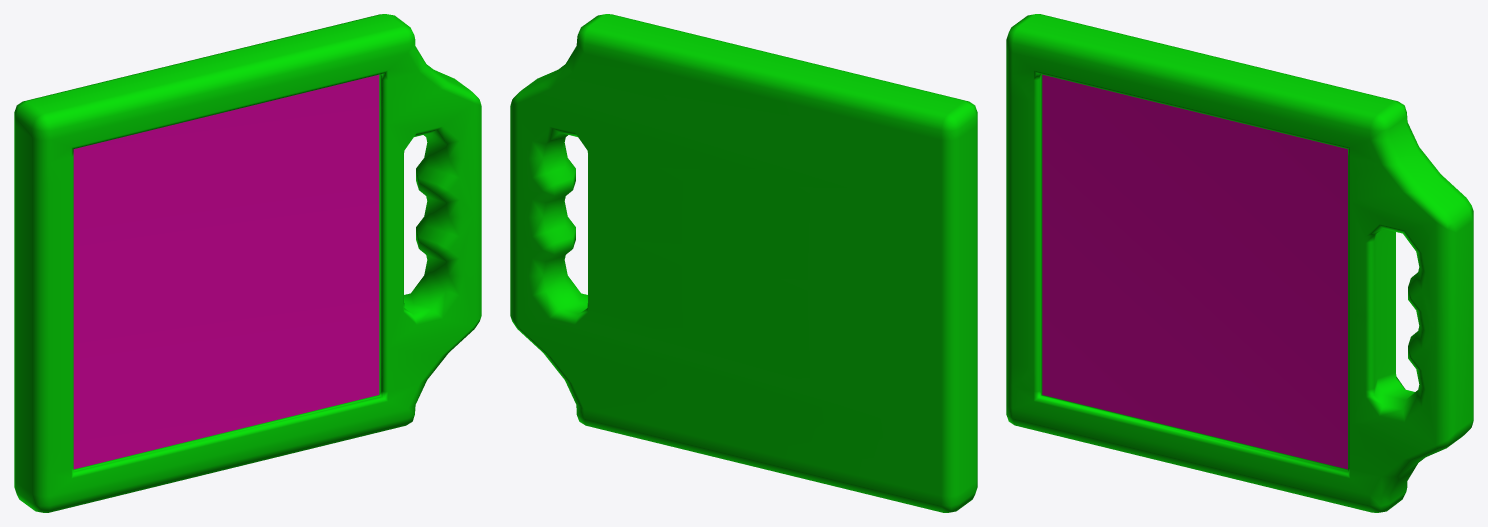
Rendered from RayosX.fbx.
3 renders of one model, left to right at view 1: azimuth 30°, elevation 25°; view 2: azimuth 150°, elevation 25°; view 3: azimuth 330°, elevation 25°, orthographic.
Parts seen in each view (by area): view 1: Cube.025; view 2: Cube.025; view 3: Cube.025.
Part boxes in pixels (box(x1,y1,x2,y2)): Cube.025: box(14, 14, 481, 512); Cube.025: box(510, 14, 977, 512); Cube.025: box(1006, 14, 1473, 512).
Bounding box in the file's own units: 0.4061 × 0.3456 × 0.0469.
